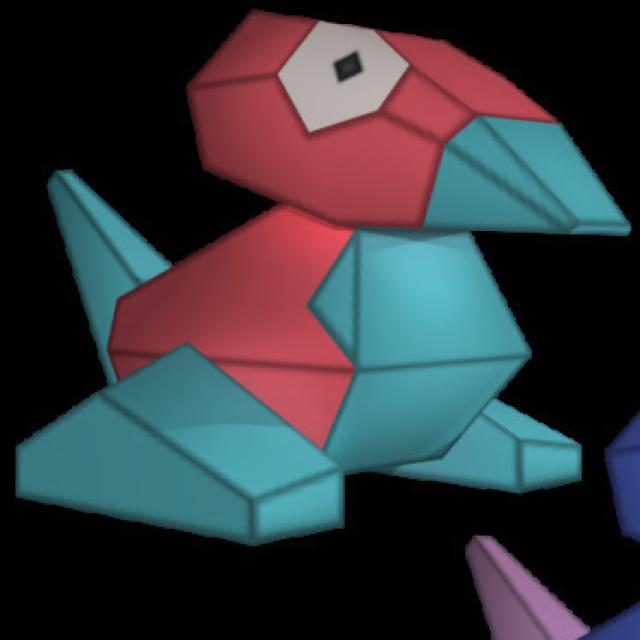Porygon: (100, 16, 594, 493)
